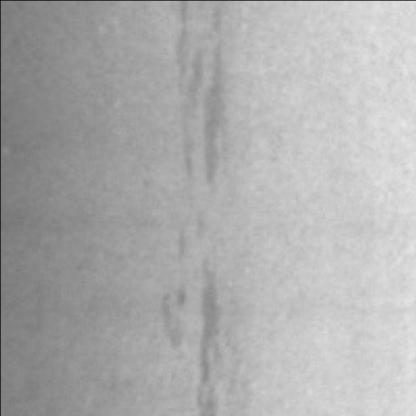inclusion: (171, 4, 244, 208), (166, 237, 233, 416)
